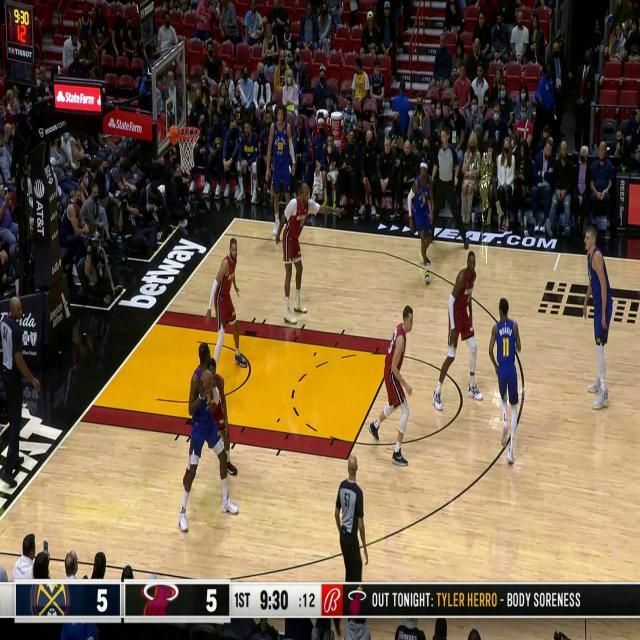rim: (201, 370, 212, 392)
